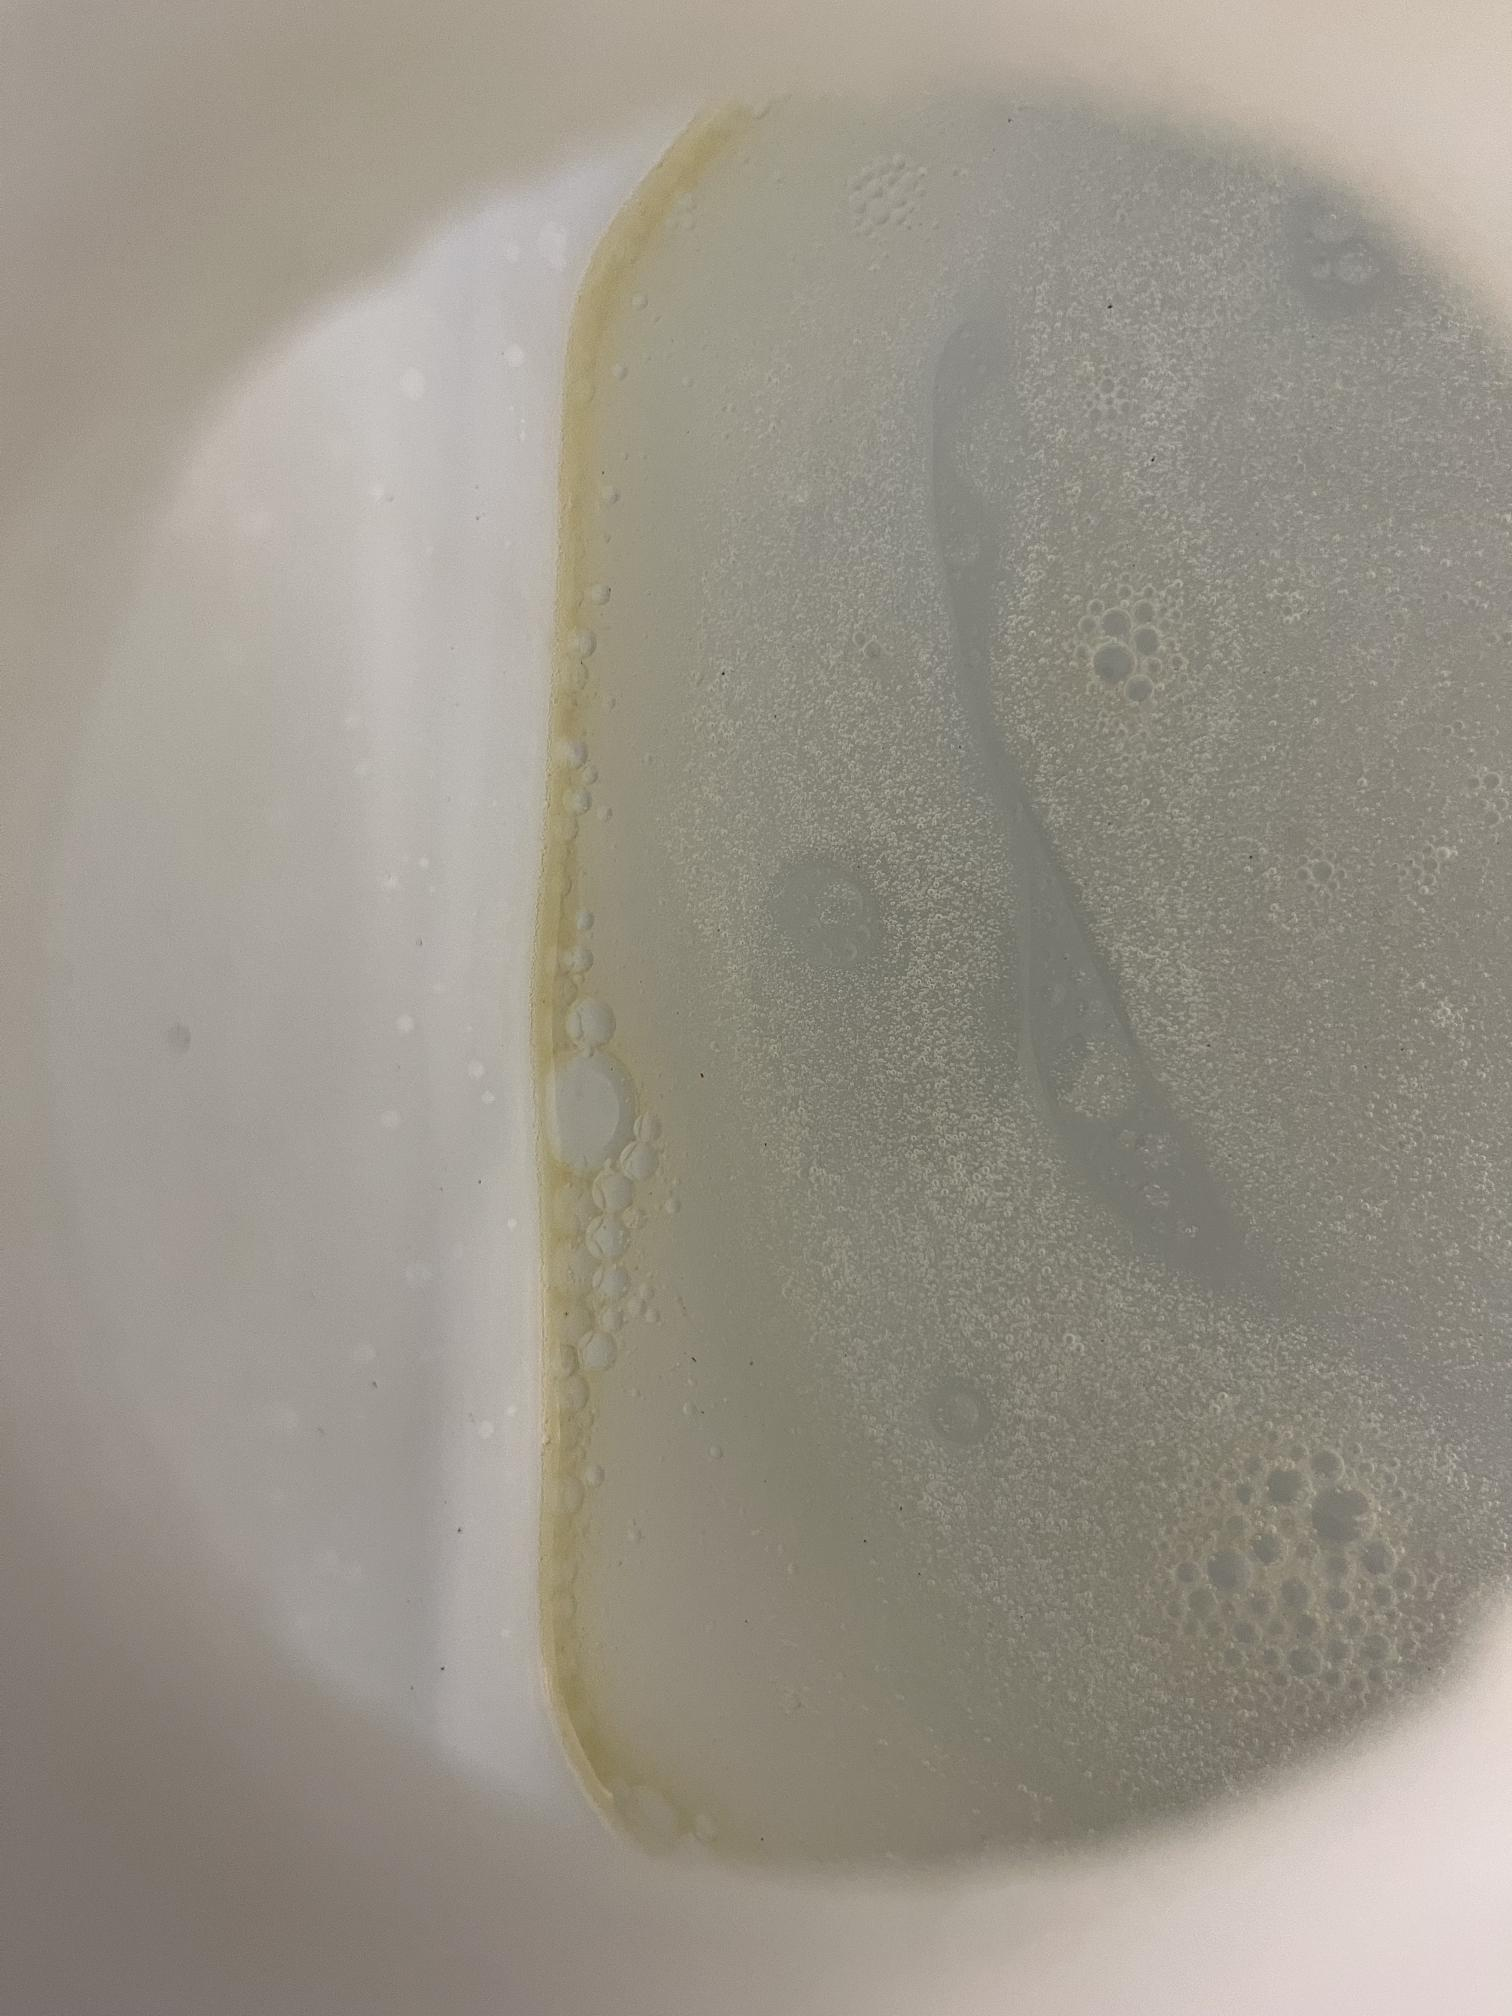Presenca de Oleo - - 70ml: (221, 79, 1425, 1940)
